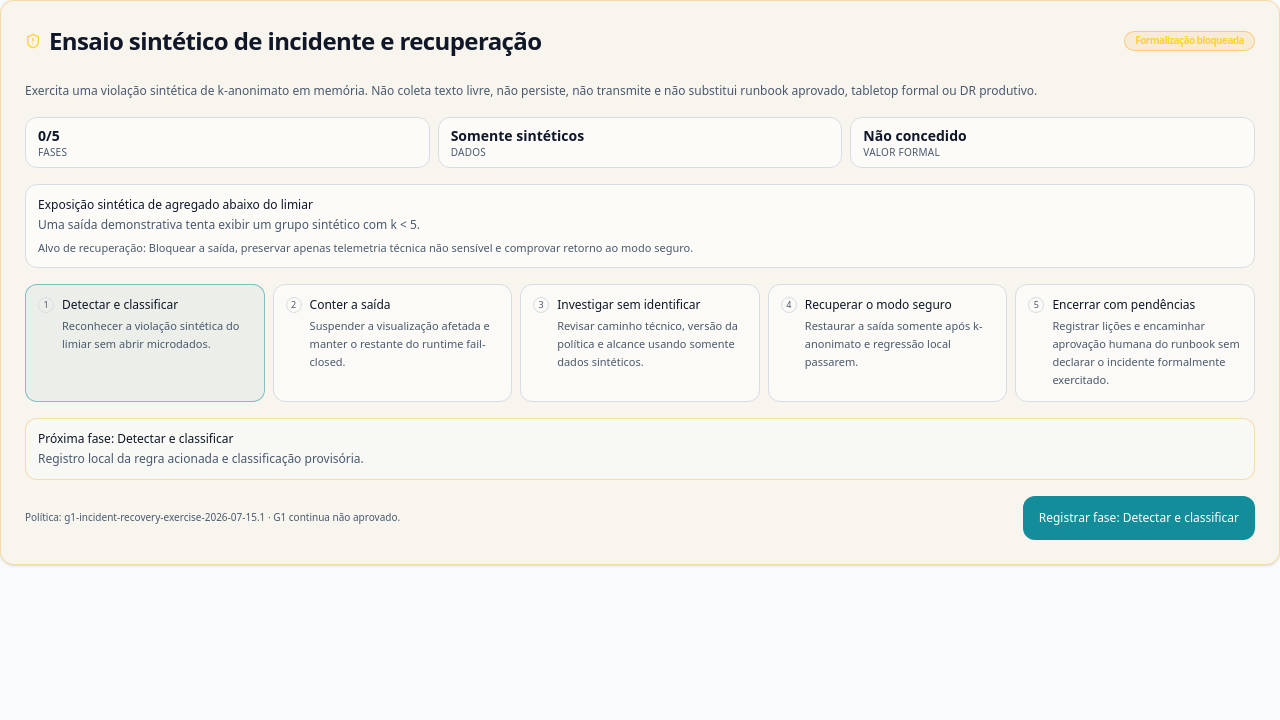
it: IncidentRecoveryExerciseCard › runs all phases locally while preserving formal No-Go
Check: the text "0/5" is shown, box [38,126,60,144]
Check: the text "Formalização bloqueada" is shown, box [1124,31,1255,51]
Click the button "Registrar fase: Detectar e classificar" at (1139, 518), box [1023,496,1255,540]
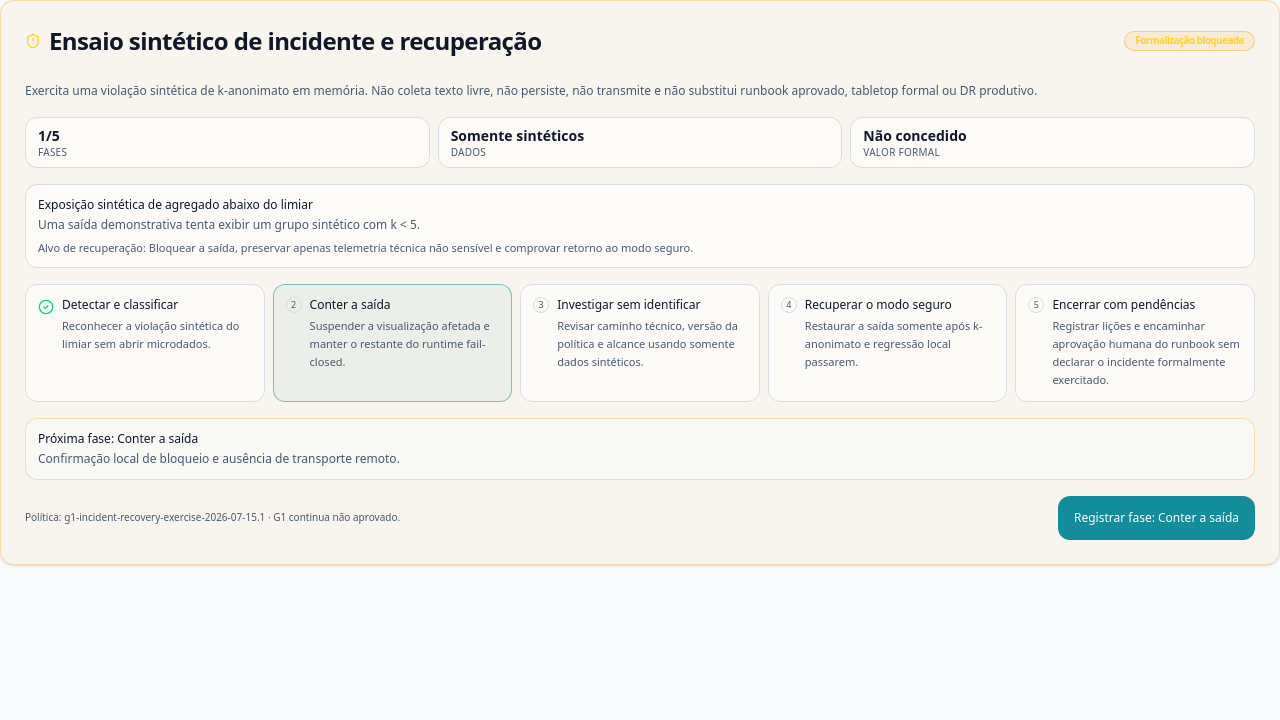
Click the button "Registrar fase: Conter a saída" at (1156, 518), box [1058,496,1255,540]
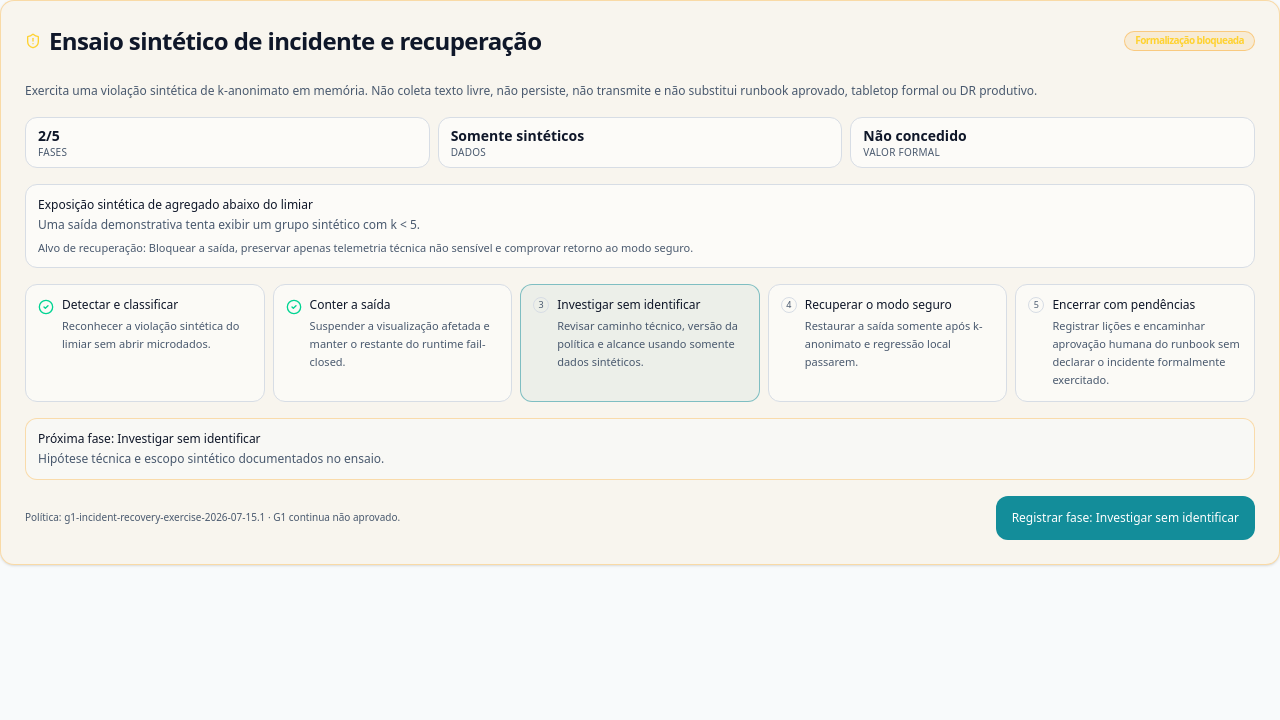
Click the button "Registrar fase: Investigar sem identificar" at (1125, 518), box [996,496,1255,540]
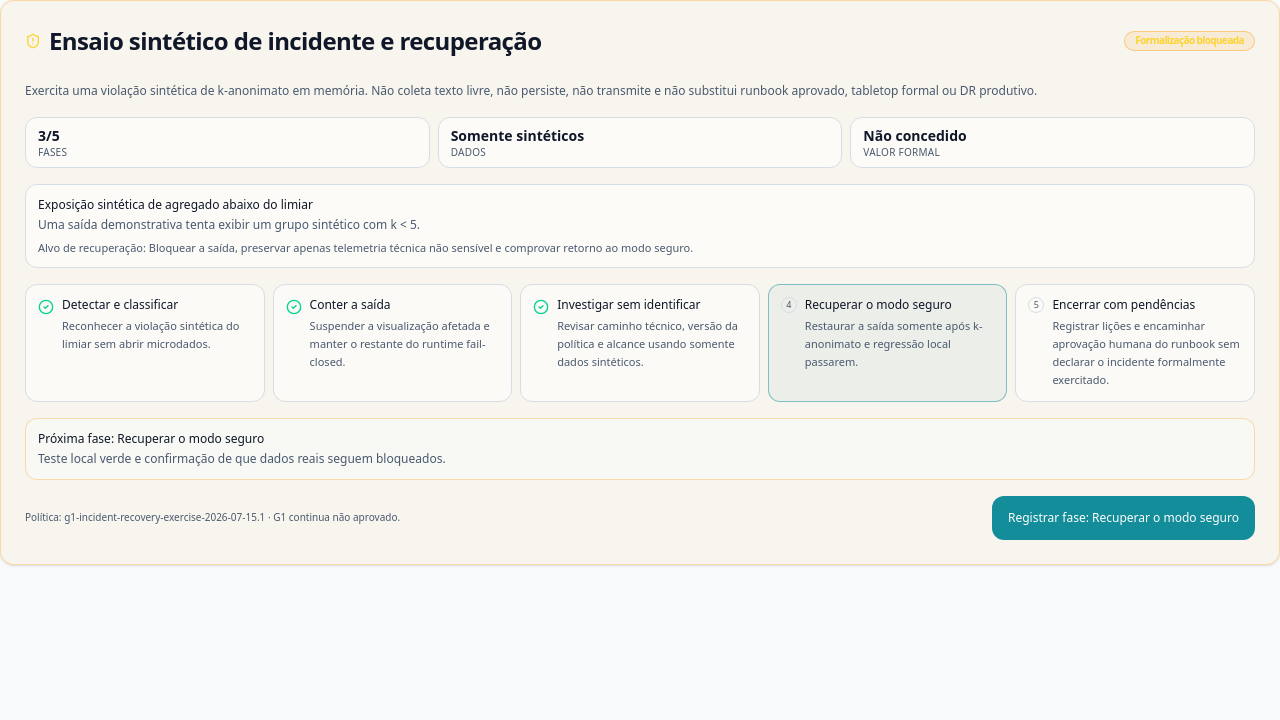
Click the button "Registrar fase: Recuperar o modo seguro" at (1124, 518), box [992,496,1255,540]
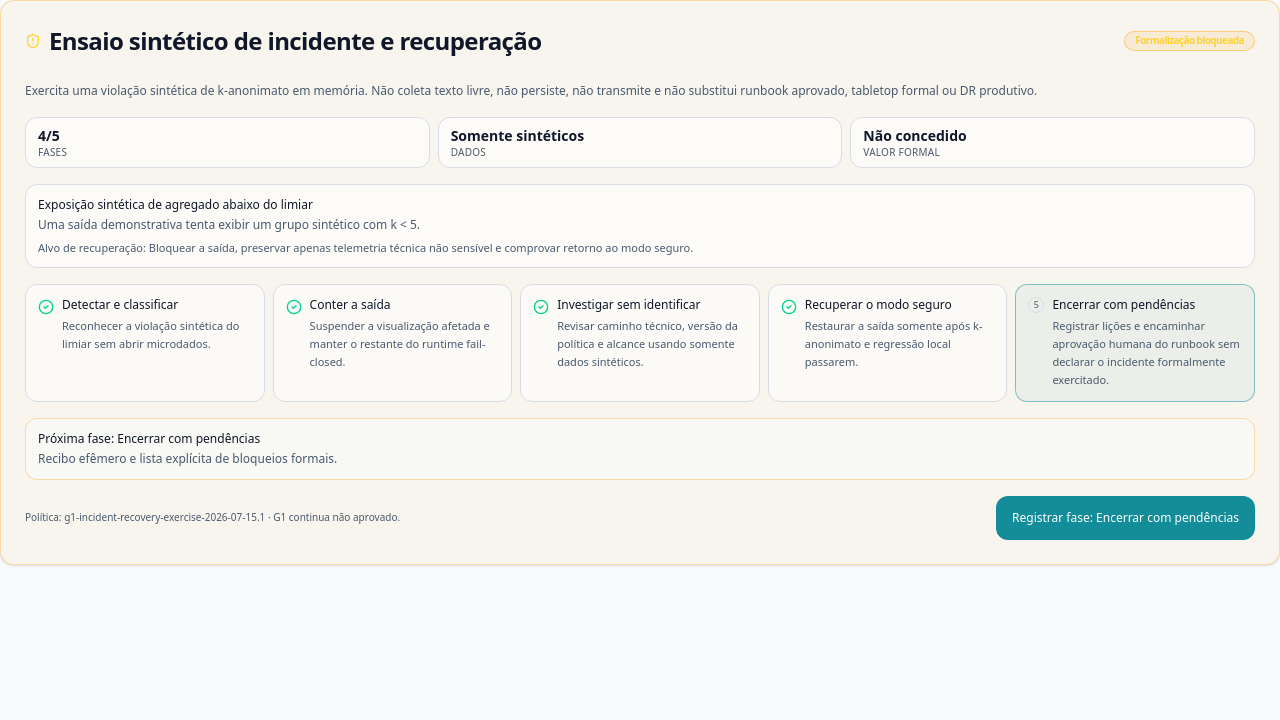
Click the button "Registrar fase: Encerrar com pendências" at (1126, 518), box [996,496,1255,540]
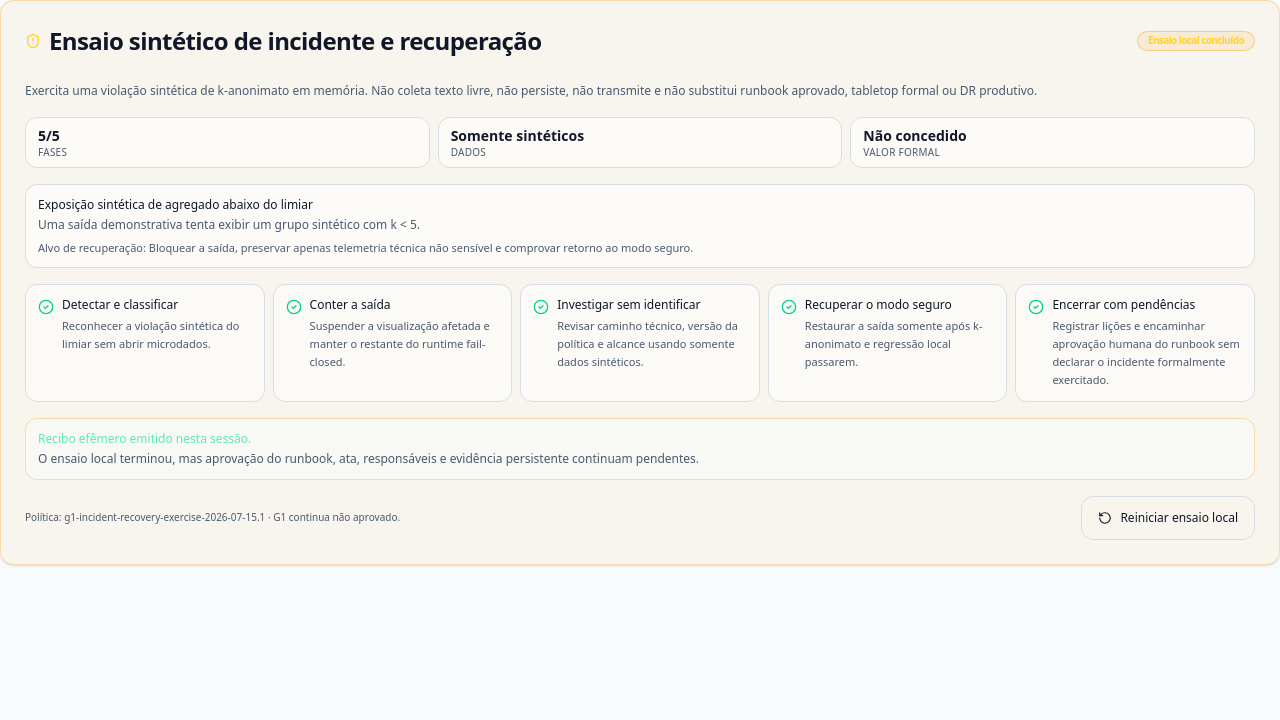
Check: the text "5/5" is shown, box [38,126,60,144]
Check: the text "Ensaio local concluído" is shown, box [1137,31,1255,51]
Check: the text "aprovação do runbook, ata, responsáveis" is shown, box [38,450,699,467]
